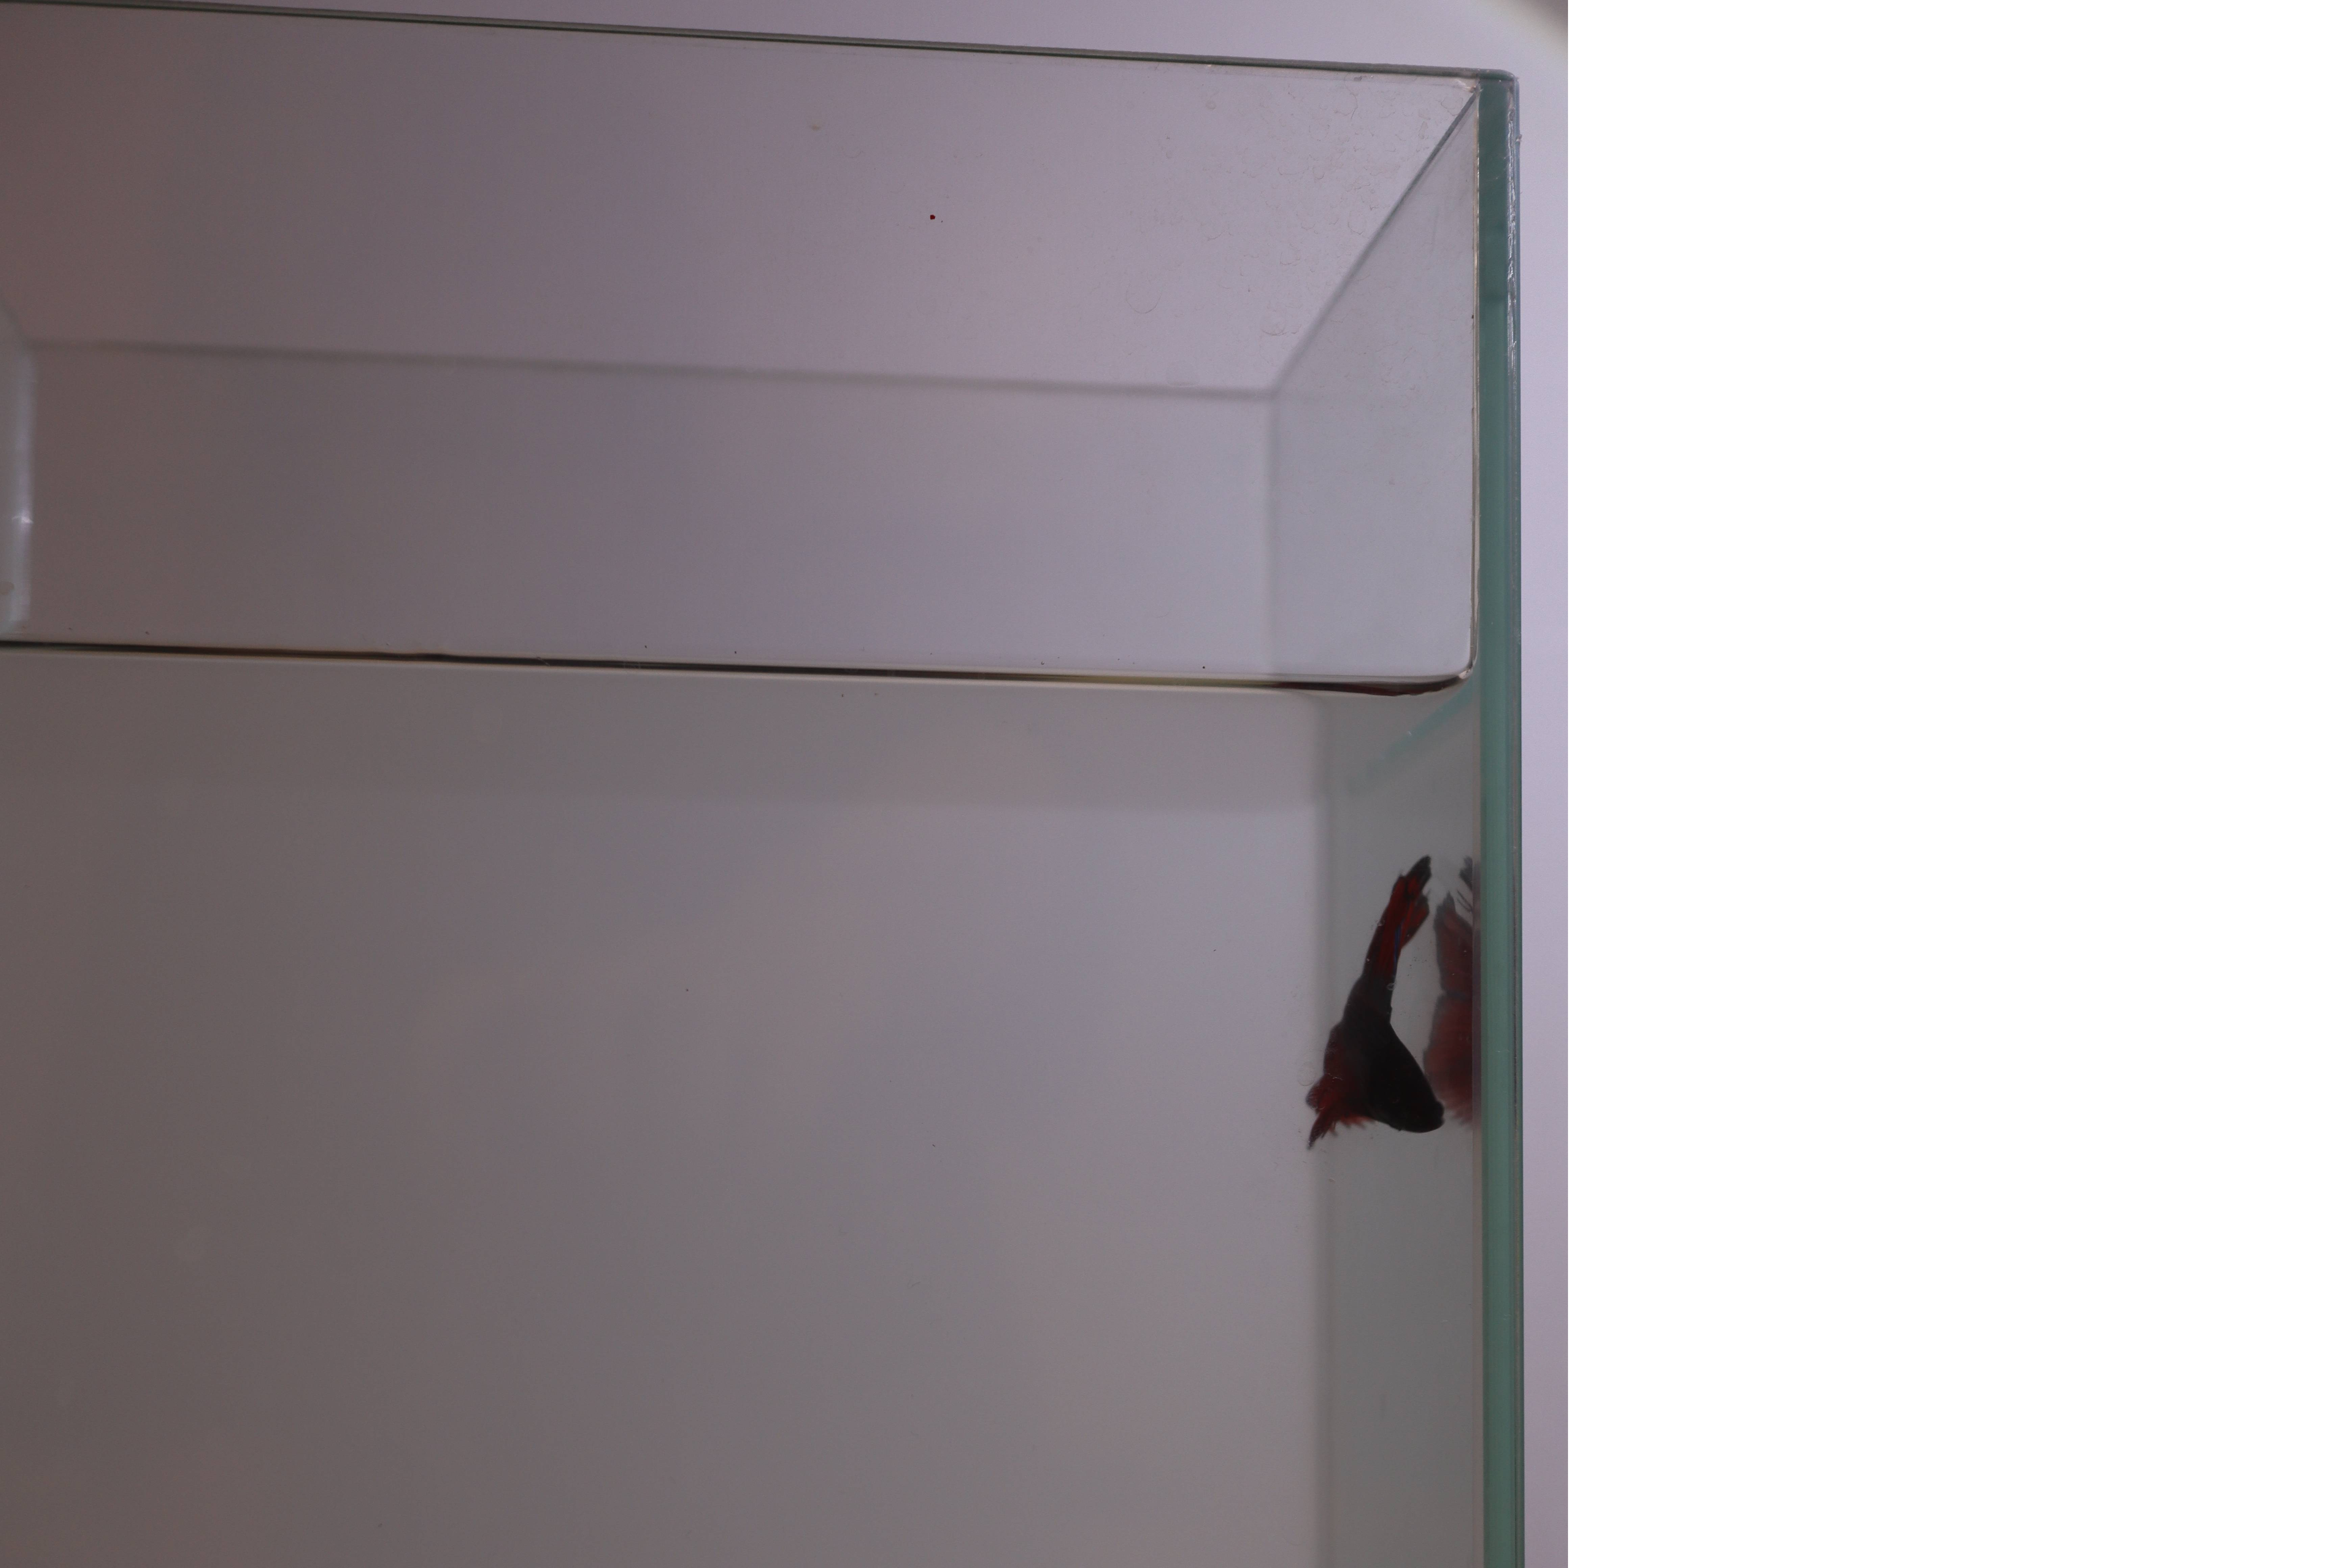fish: (1269, 849, 1458, 1162)
